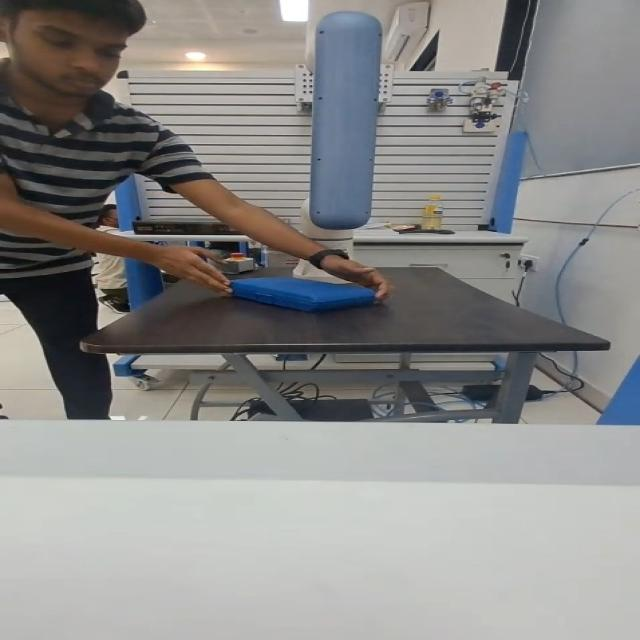top-surface: (253, 278, 342, 289)
